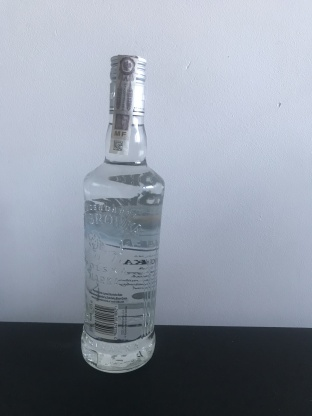nakretka: (107, 49, 148, 120)
